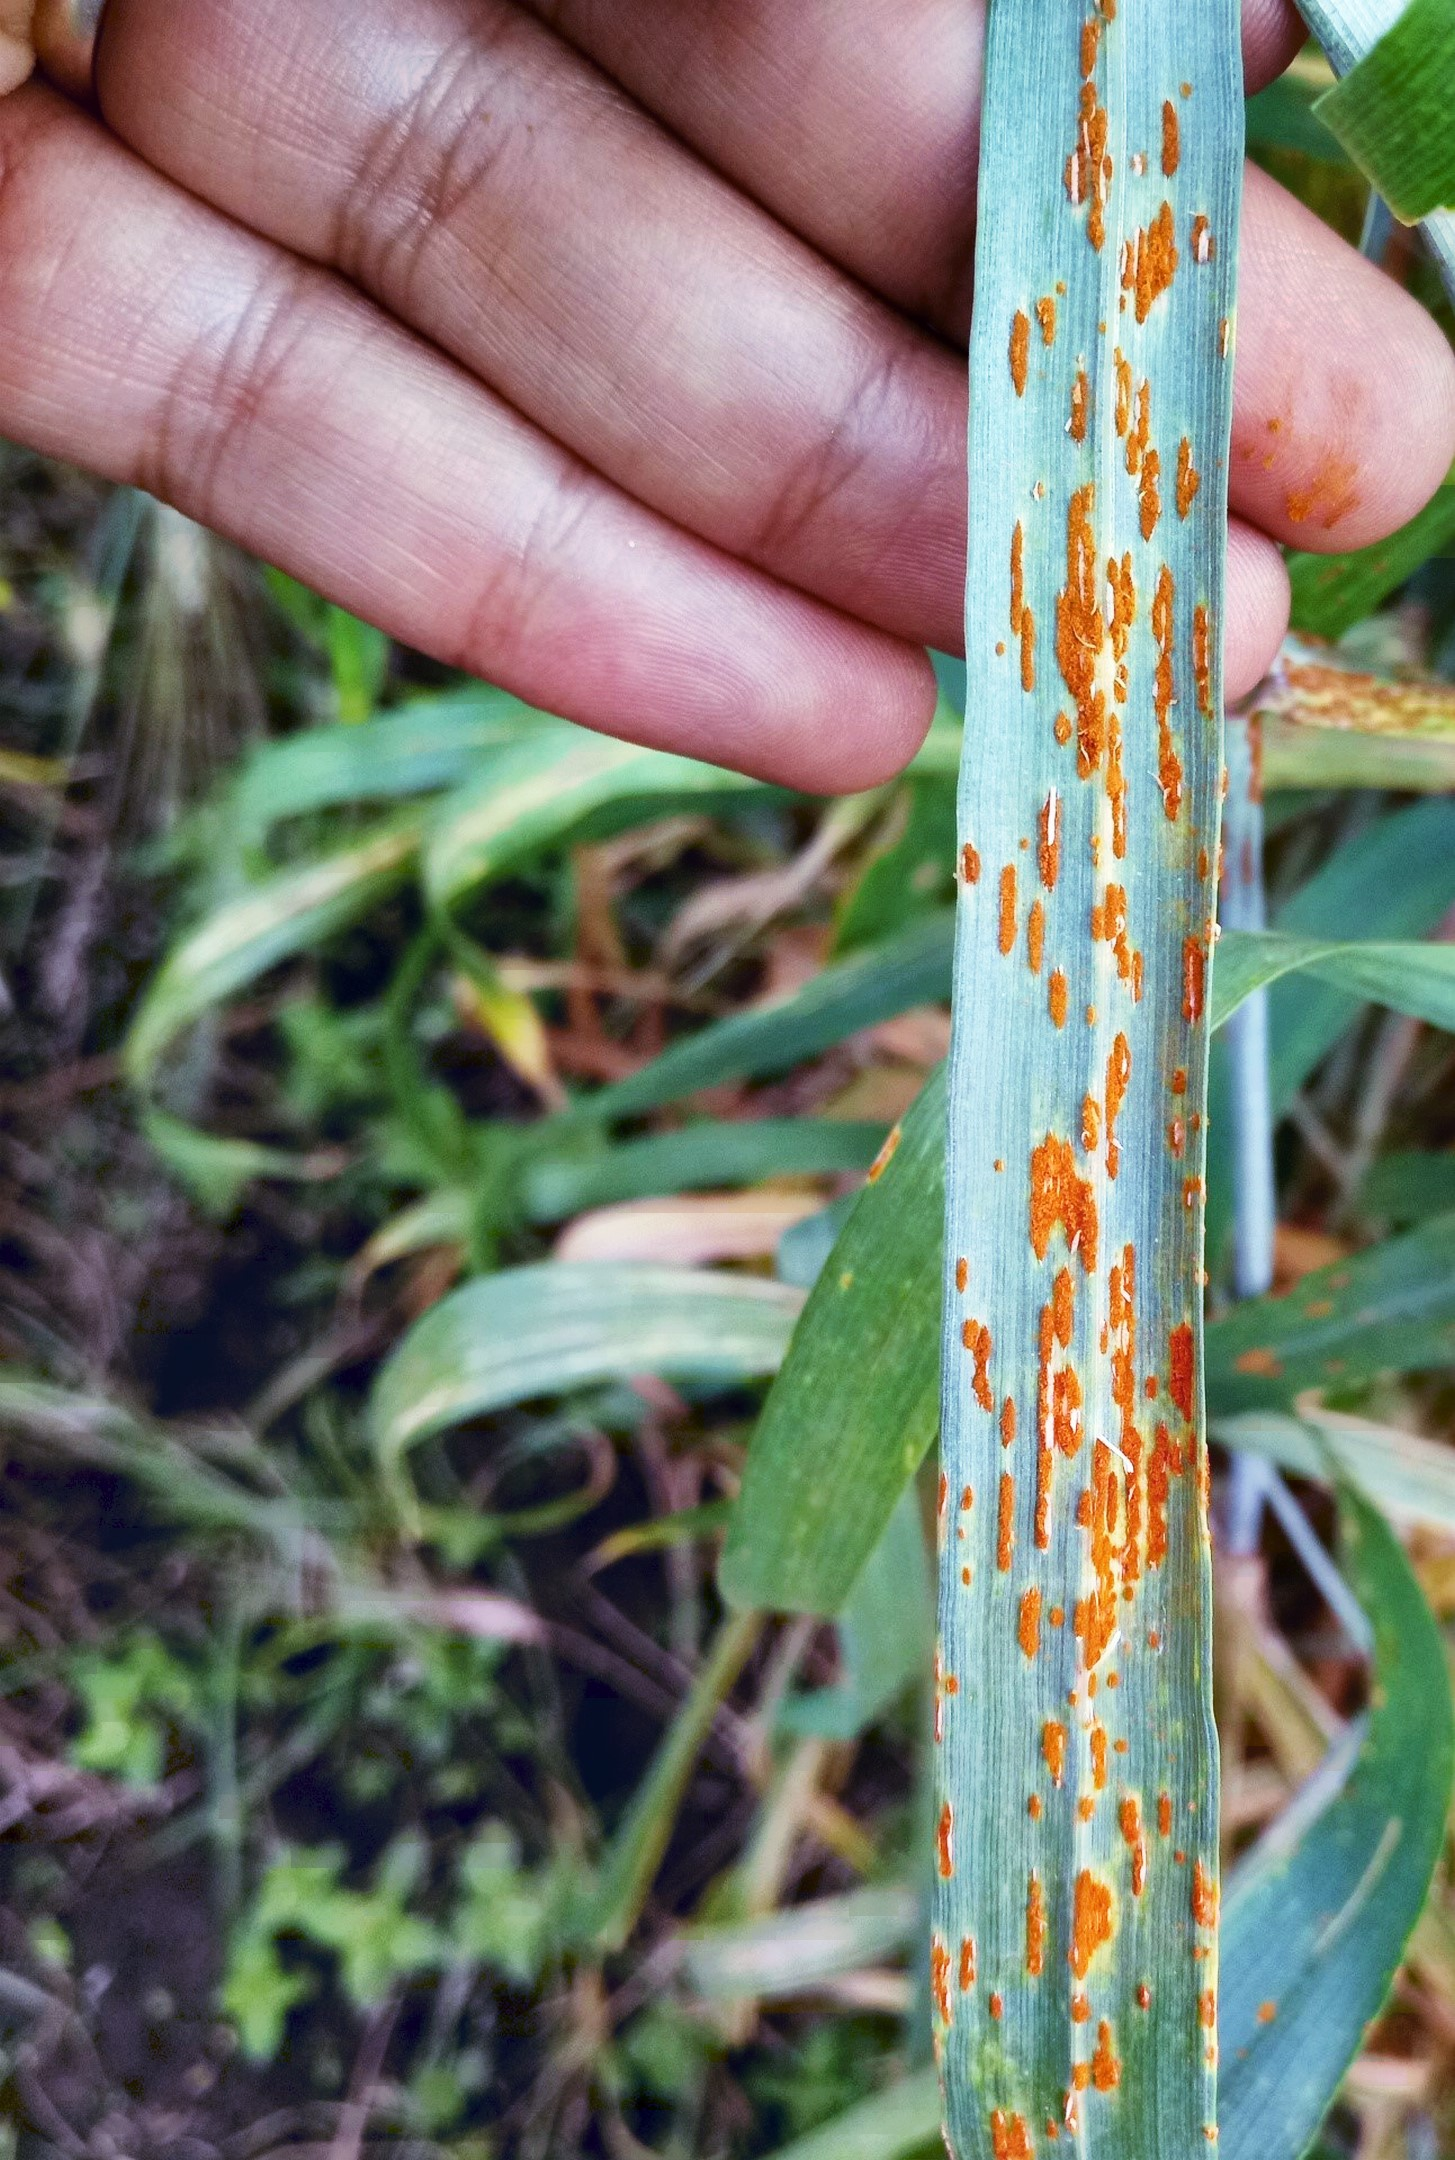Leaf Rust: (879, 154, 1254, 2097)
